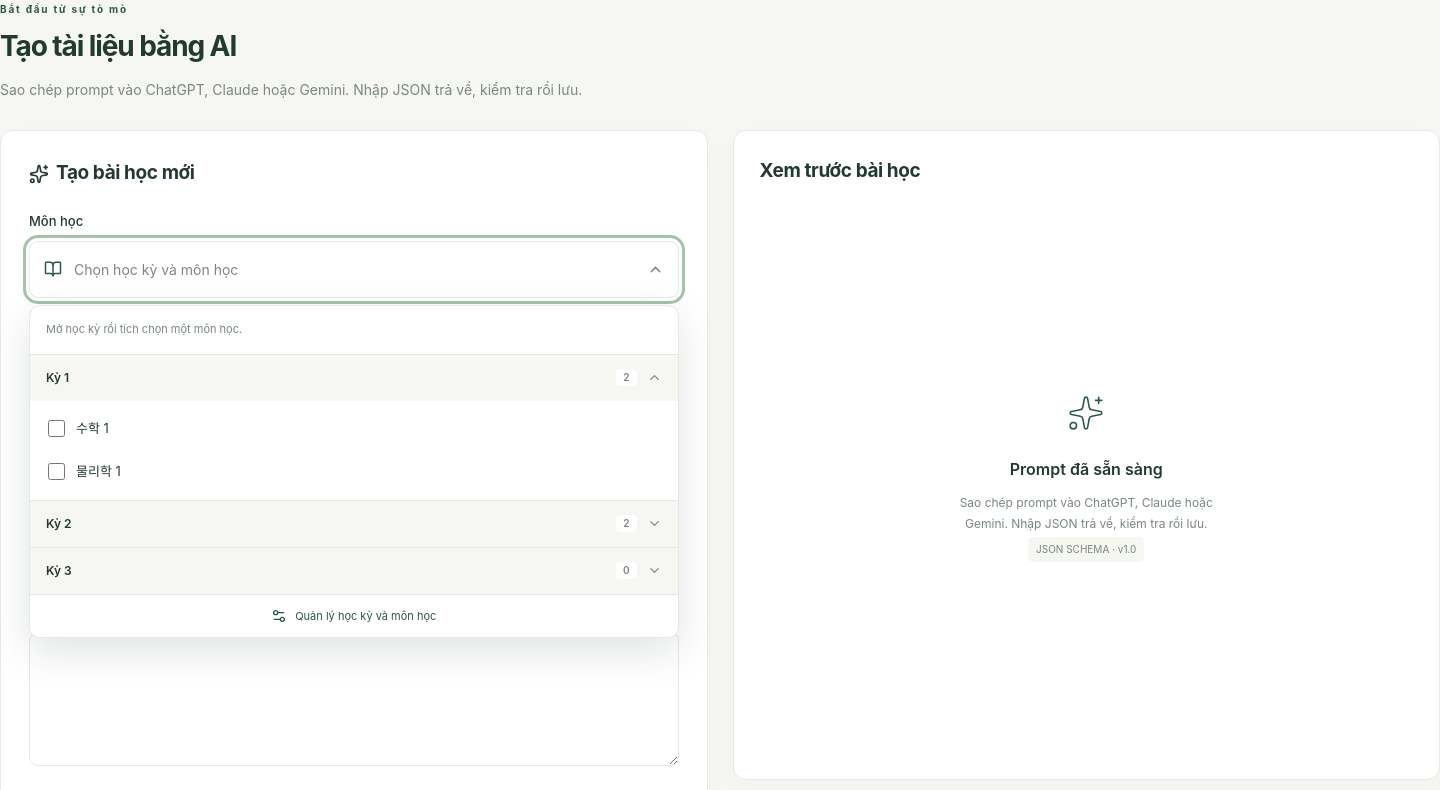
Scenario: keeps exactly one checkbox selected across semesters and builds a prompt for that subject
Earlier steps of the test are not shown.
Later steps or results of the test are not shown.
Click the checkbox labelled "수학 1".
click(56, 428)  # box [48,420,65,437]
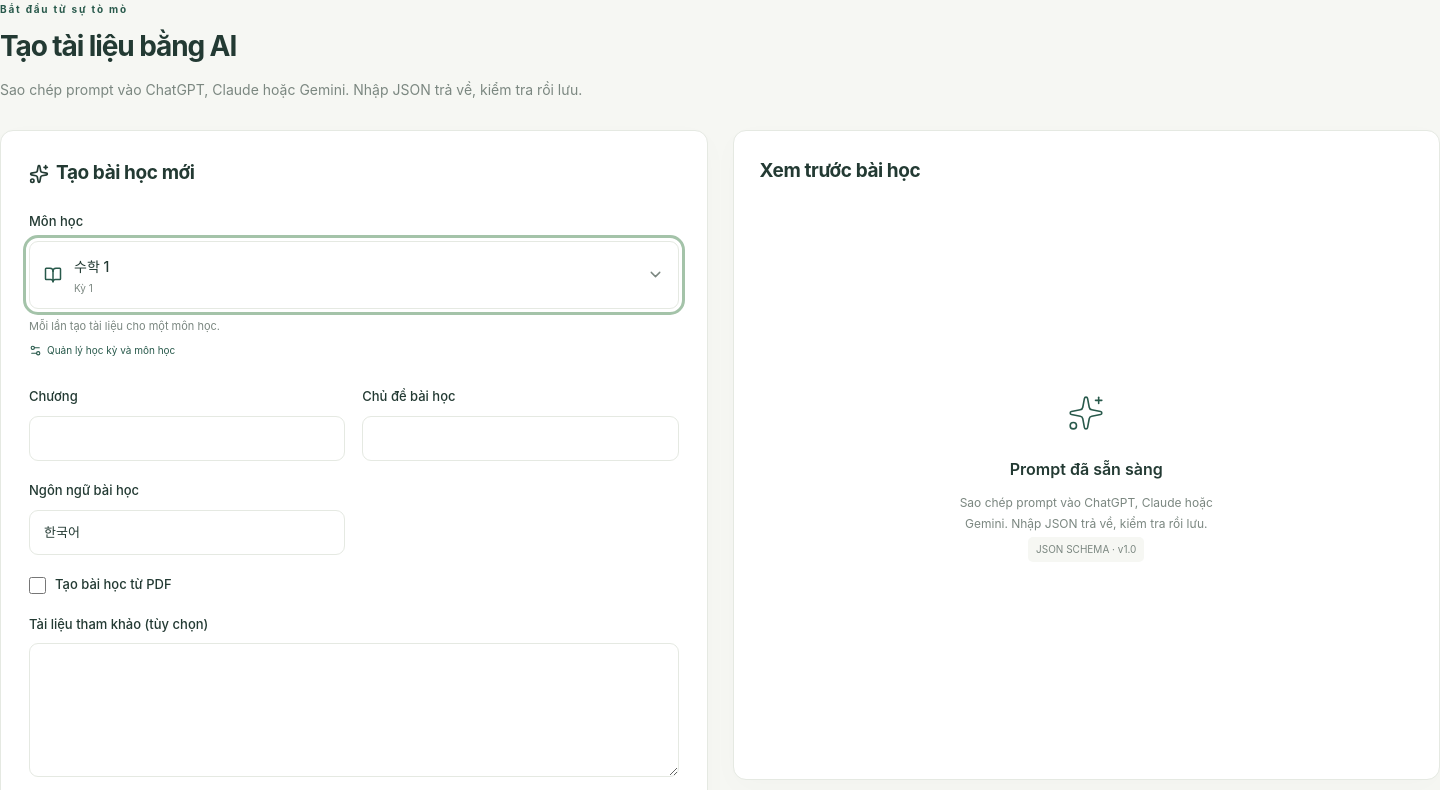
Click the button with aria-label "Chọn học kỳ và môn học".
click(92, 266)  # box [29,241,678,309]
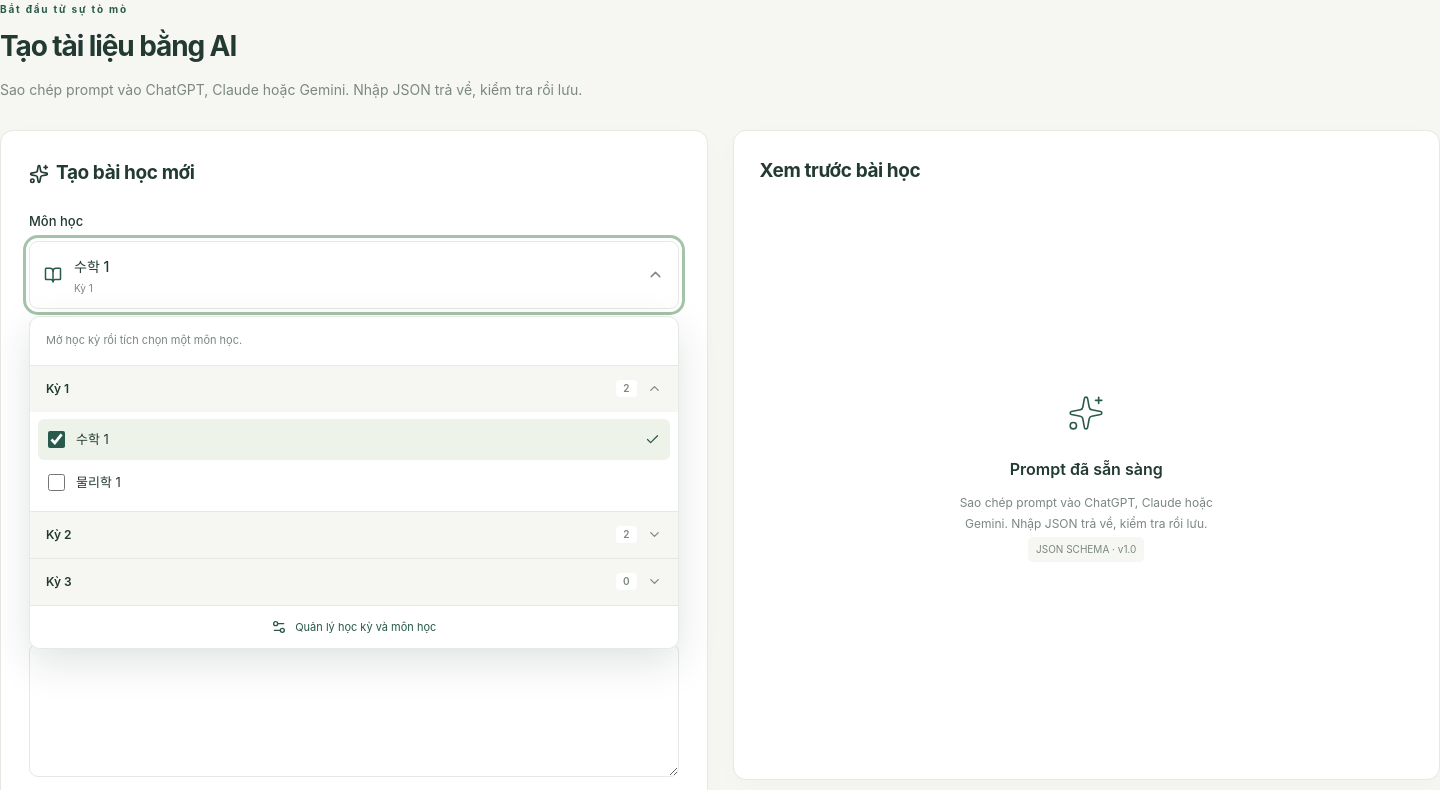
Result: the checkbox labelled "수학 1" is checked at [48,431,65,448]
Click the button "Kỳ 2 2".
click(59, 534)  # box [30,512,678,558]
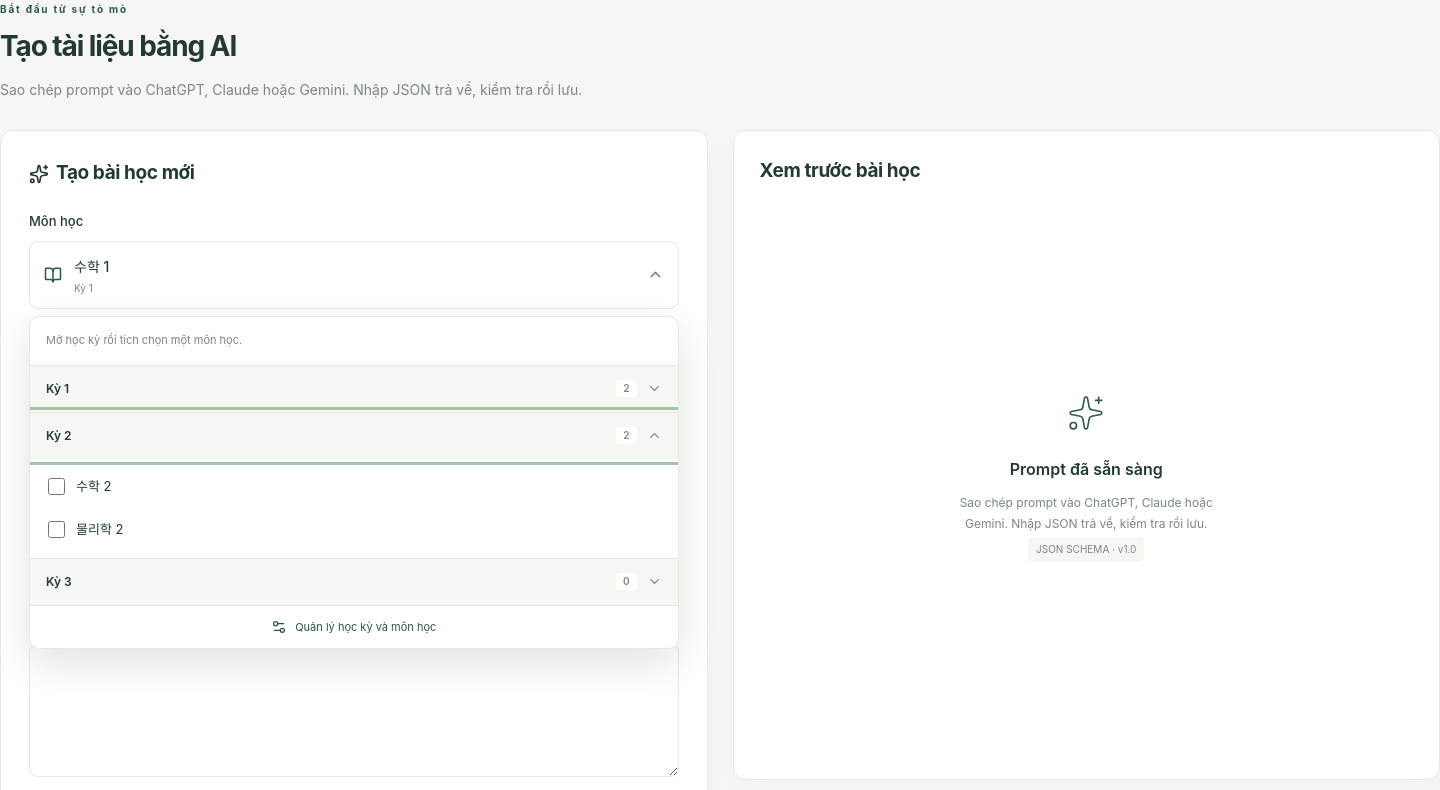
Click the checkbox labelled "물리학 2".
click(56, 530)  # box [48,521,65,538]
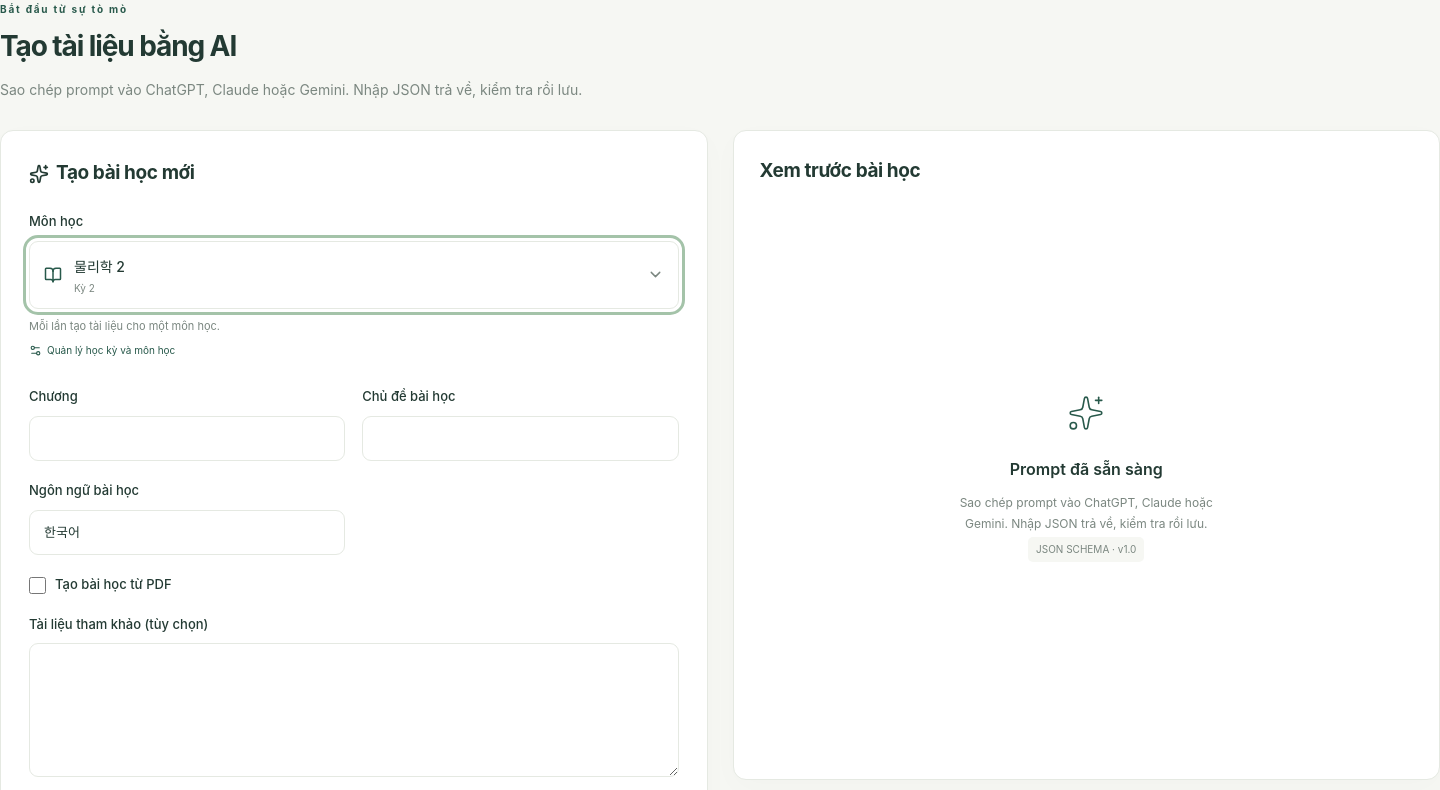
Click the button with aria-label "Chọn học kỳ và môn học".
click(100, 266)  # box [29,241,678,309]
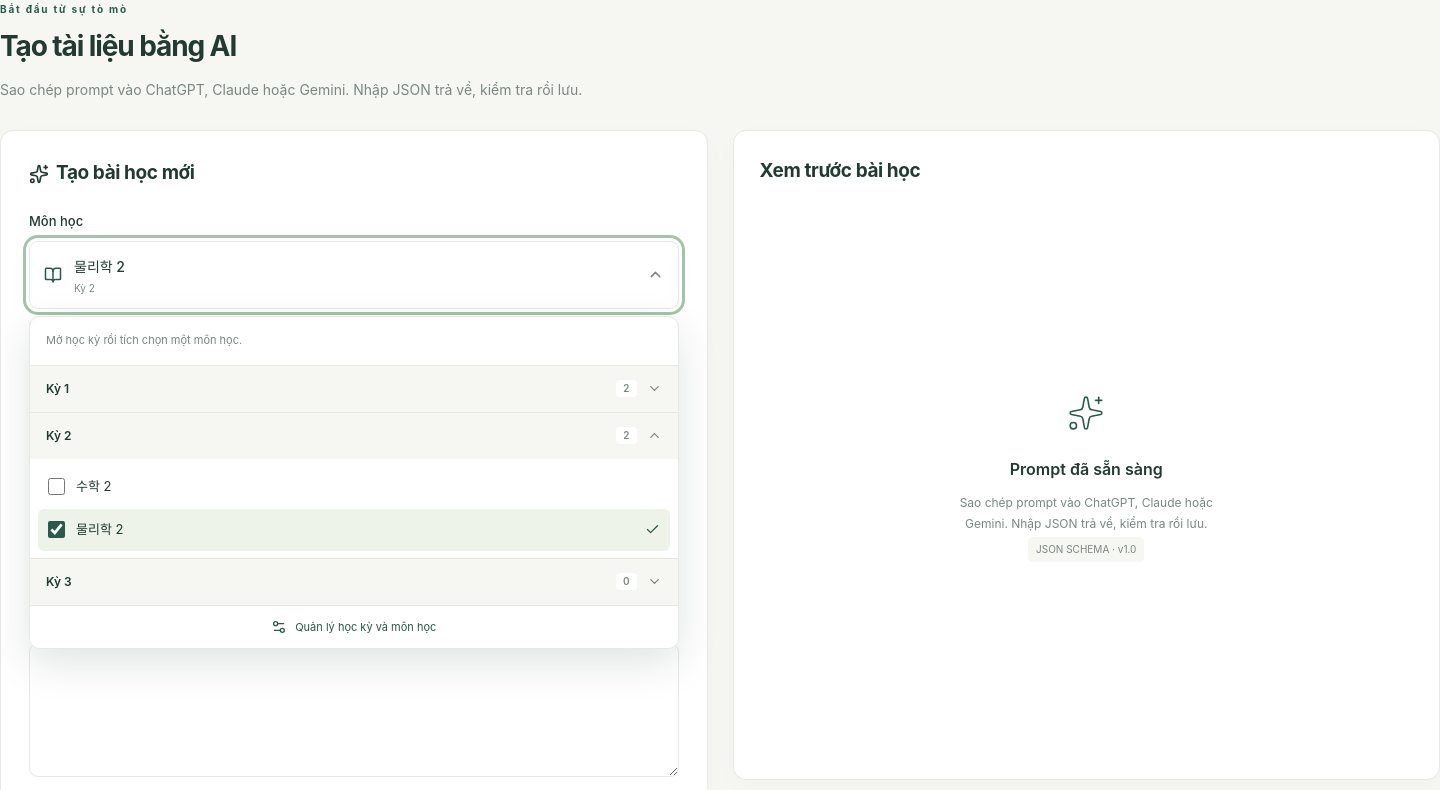
Click the button "Kỳ 1 2".
click(58, 388)  # box [30,366,678,412]
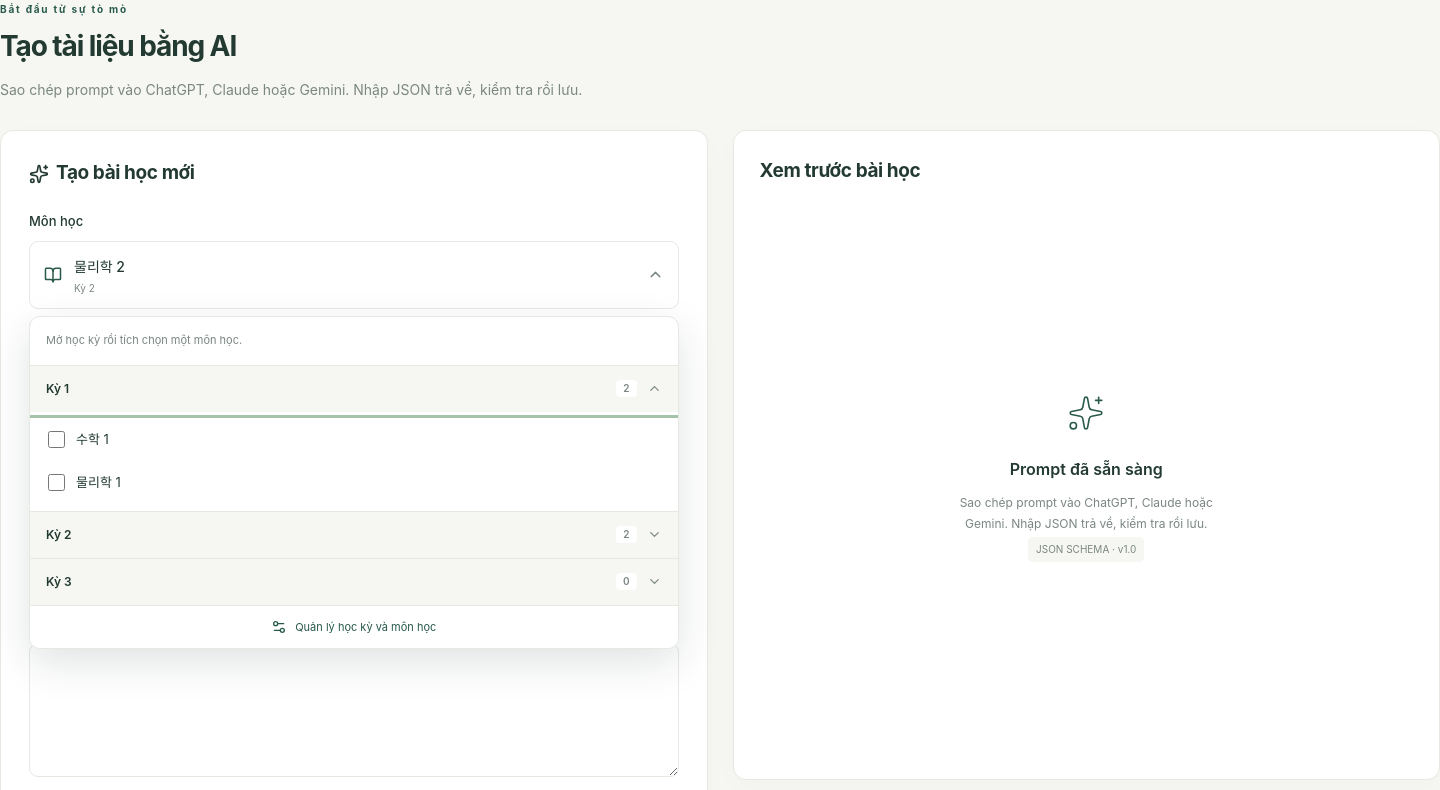
Result: the checkbox labelled "수학 1" is not checked at [48,431,65,448]
